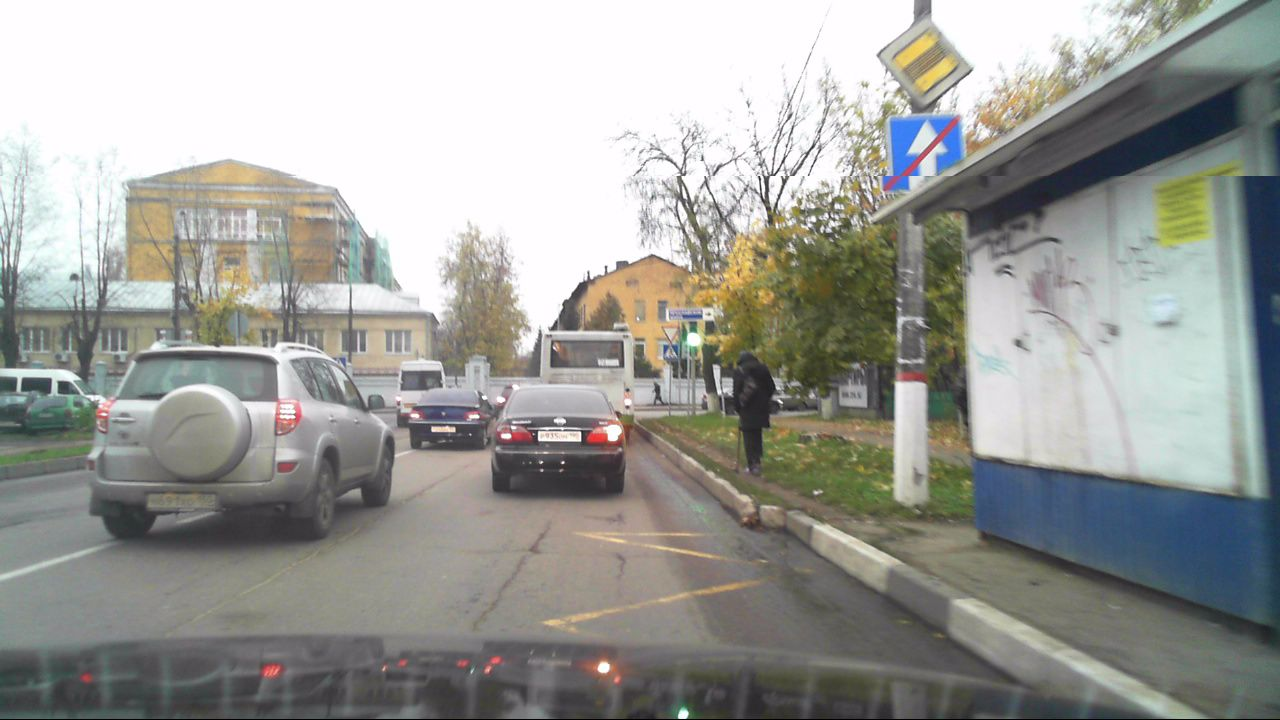main road: (878, 19, 972, 113)
